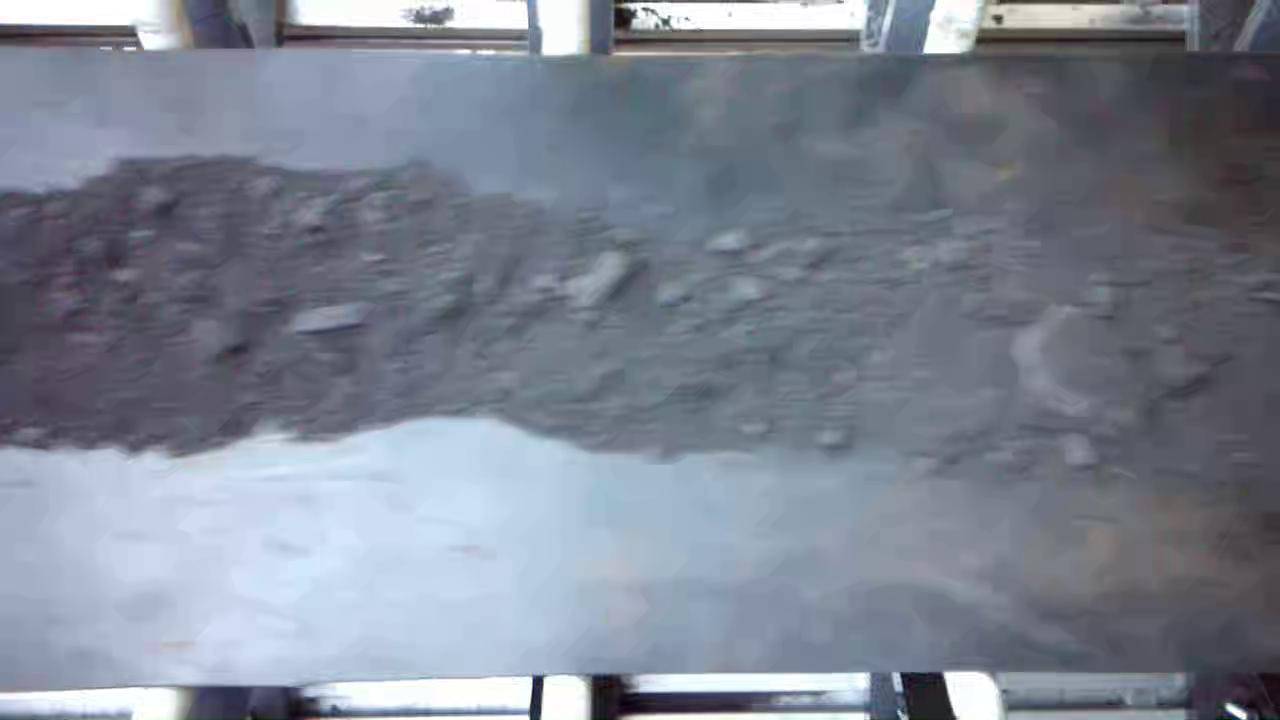conveyor: (3, 58, 1280, 665)
